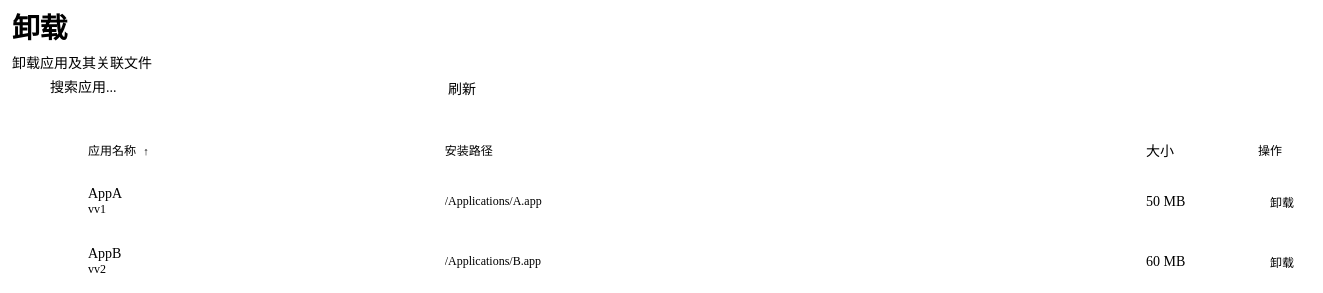
UninstallView 组件 › 深度交互测试 › 卸载成功后从列表中移除该应用
Expected: the number of elements with class "app-item" is 2, [45, 186, 1306, 216]; [45, 246, 1306, 276]
Click the button with class "btn-small" next to "50 MB".
click(1282, 202)  # box [1258, 188, 1306, 216]
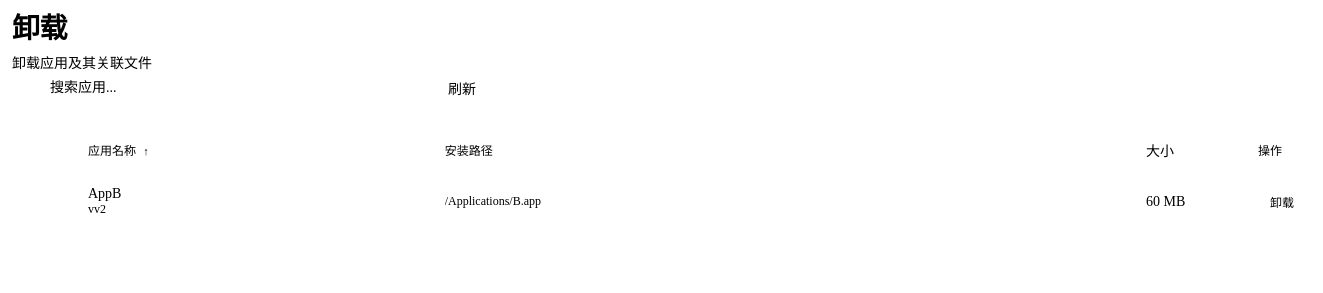
Expected: the element with class "app-item" shows "AppB", [88, 186, 122, 201]
Now the number of elements with class "app-item" is 1, box [45, 186, 1306, 216]
